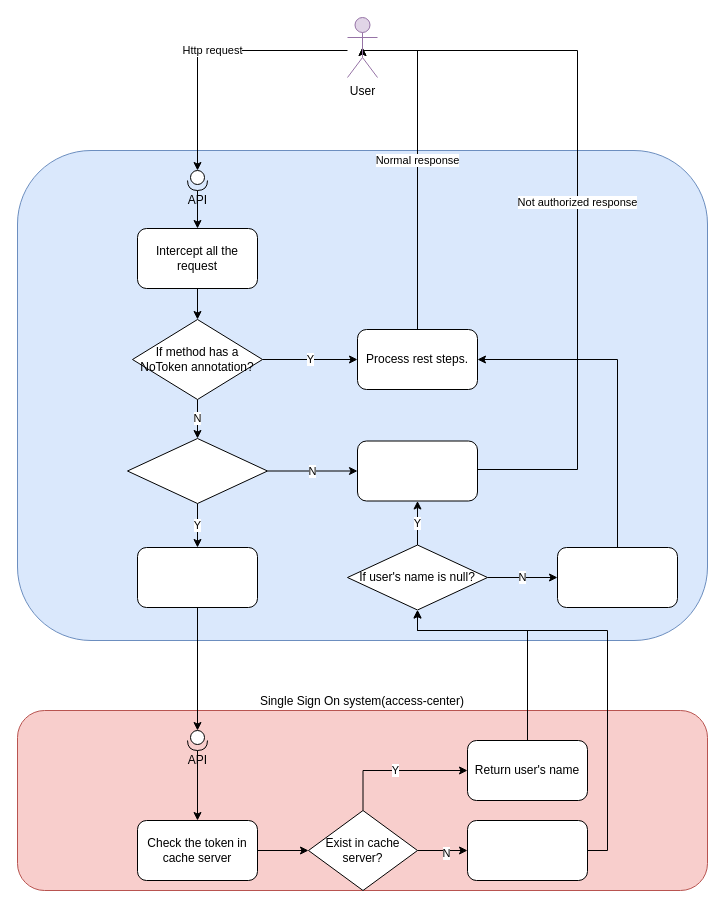
This 725x908 diagram has some shape labels left out. Each missing label, with the box of its shape:
Business system: (16, 150, 708, 640)
If there is a parameter of token in header?: (126, 438, 268, 504)
Invoke a http request to SSO with token.: (136, 546, 258, 608)
Put the user's name into local thread.: (556, 546, 678, 608)
Return http response with status code 401: (356, 440, 478, 501)
Return null as the user's name: (466, 820, 588, 880)
